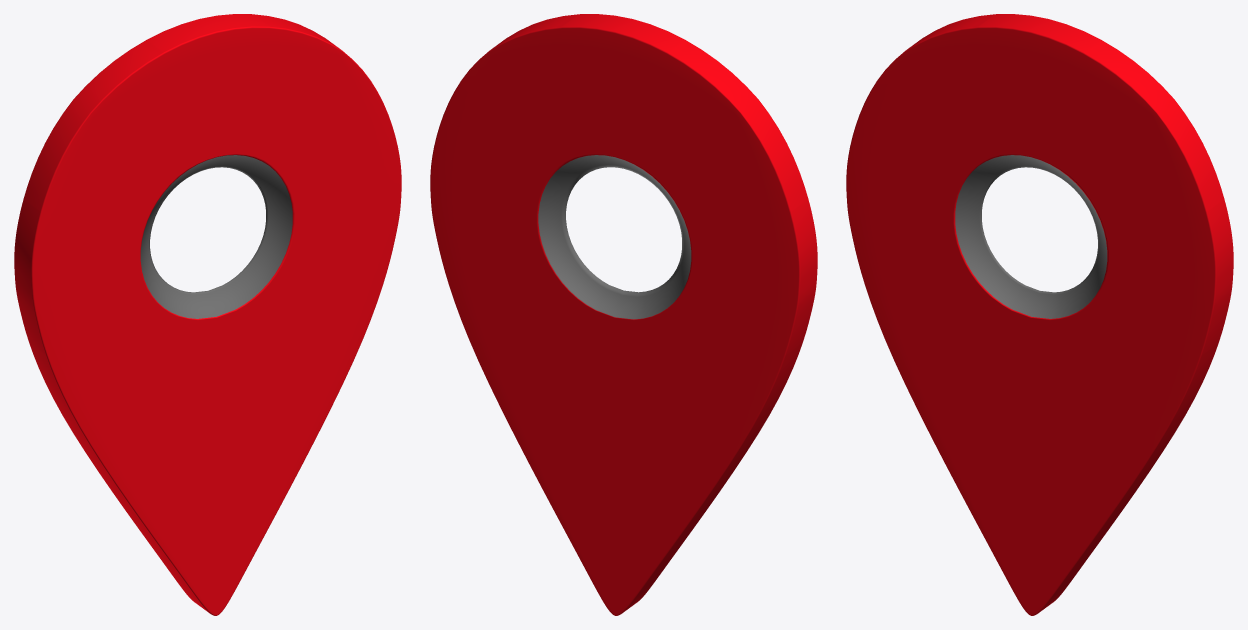
The model's file is pointer2.glb.
The picture shows the model from 3 angles, left to right: view 1: azimuth 30°, elevation 25°; view 2: azimuth 150°, elevation 25°; view 3: azimuth 330°, elevation 25°; orthographic projection.
Parts seen in each view (by area): view 1: Plane; view 2: Plane; view 3: Plane.
Part boxes in pixels (box(x1,y1,x2,y2)): Plane: box(14, 14, 401, 615); Plane: box(430, 14, 817, 615); Plane: box(846, 14, 1233, 615).
Size of the model in its own units: 266 by 402 by 22.7.
